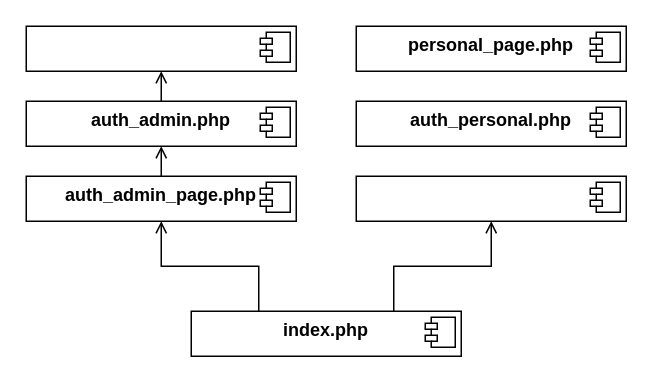
The diagram is 653 pixels wide and 383 high, and some of its shapes have lost their labels. Each missing label, with the centre of its shape:
"admin_page.php" belongs at point (160, 48).
"auth_personal_page.php" belongs at point (490, 198).
